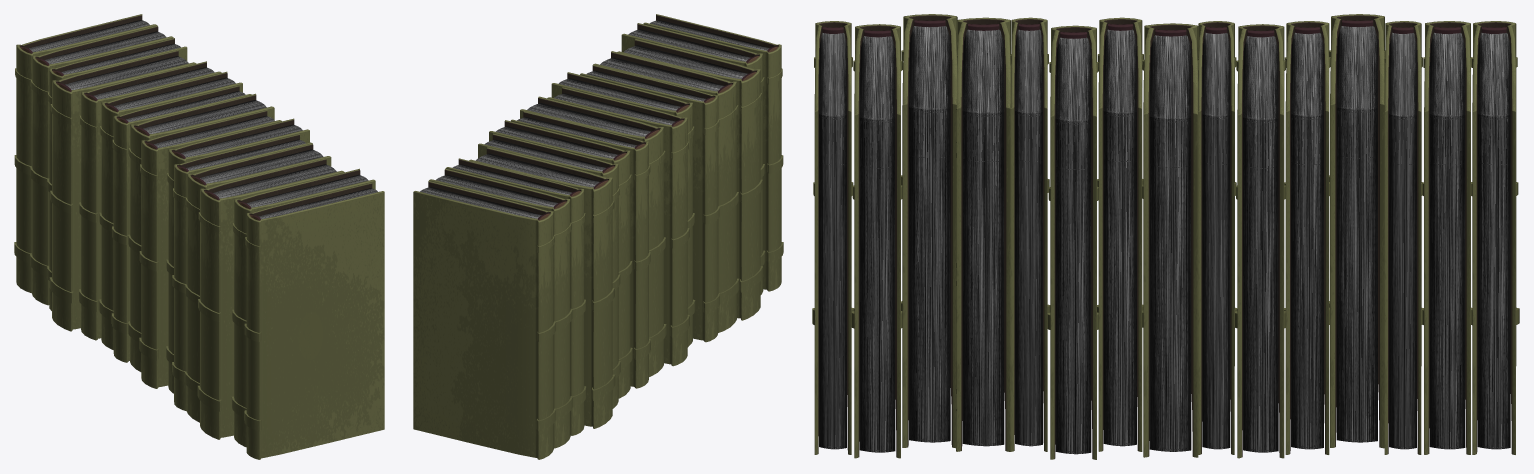
The model's file is Shelf19.fbx.
3 views of the same model, side by side, from view 1: azimuth 30°, elevation 25°; view 2: azimuth 150°, elevation 25°; view 3: azimuth 270°, elevation 25° (orthographic). The views are drawn at different scales.
Parts seen in each view (by area): view 1: pCube64 (×4), pCube1 (×4), pCube10 (×3), pCube65 (×4), pages4 (×4), pages2 (×4), pages5 (×4), pages1 (×3); view 2: pCube10 (×3), pCube1 (×4), pCube64 (×4), pCube65 (×4), pages4 (×4), pages2 (×4), pages5 (×4), pages1 (×3); view 3: pages4 (×4), pages2 (×4), pages5 (×4), pages1 (×3), pCube1 (×4), pCube65 (×4), pCube64 (×4), pCube10 (×3).
Part boxes in pixels (x1,y1,x2,y2): pCube64 (×4): [47, 38, 384, 459]; pCube1 (×4): [49, 49, 344, 439]; pCube10 (×3): [14, 14, 281, 388]; pCube65 (×4): [30, 25, 375, 447]; pages4 (×4): [65, 56, 336, 198]; pages2 (×4): [44, 31, 368, 207]; pages5 (×4): [61, 43, 377, 219]; pages1 (×3): [29, 20, 274, 147]; pCube10 (×3): [413, 87, 689, 459]; pCube1 (×4): [469, 38, 763, 428]; pCube64 (×4): [446, 14, 783, 435]; pCube65 (×4): [429, 23, 765, 448]; pages4 (×4): [476, 45, 747, 187]; pages2 (×4): [436, 29, 750, 207]; pages5 (×4): [452, 20, 769, 194]; pages1 (×3): [420, 93, 675, 218]; pages4 (×4): [909, 26, 1377, 451]; pages2 (×4): [859, 32, 1465, 454]; pages5 (×4): [819, 29, 1416, 449]; pages1 (×3): [1103, 29, 1510, 449]; pCube1 (×4): [901, 14, 1385, 457]; pCube65 (×4): [851, 21, 1472, 459]; pCube64 (×4): [812, 17, 1423, 454]; pCube10 (×3): [1097, 17, 1519, 454].
Bounding box in the file's own units: 0.6589 × 1.02 × 1.9.
